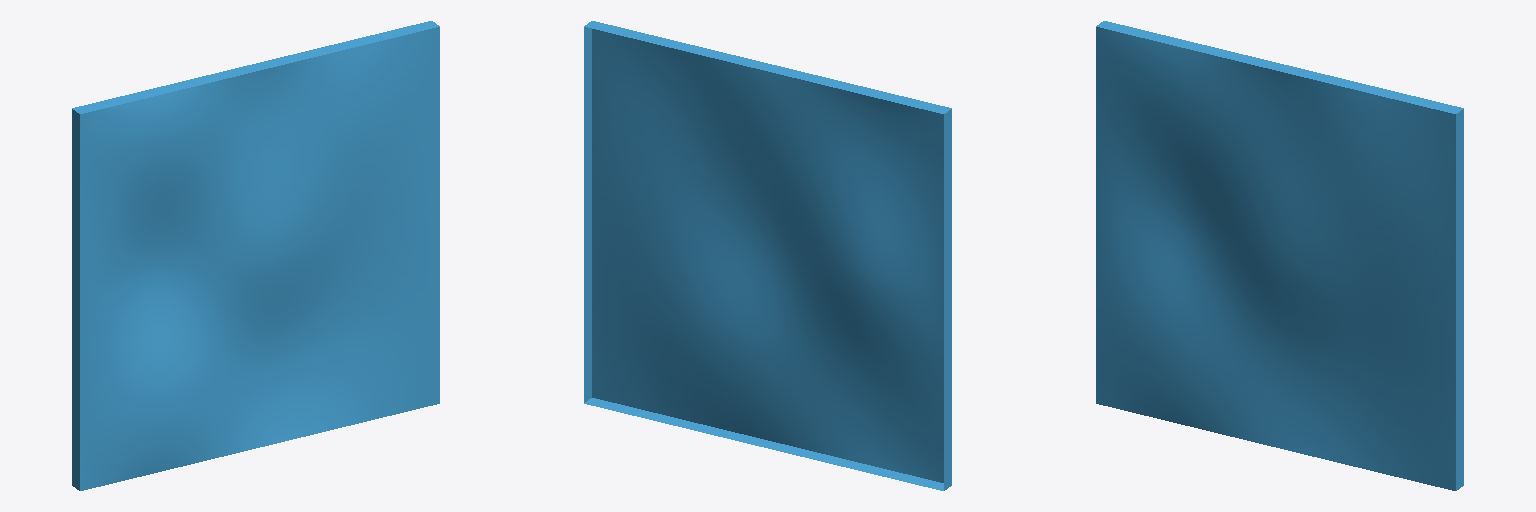
URDF robot description (liangcang):
<?xml version="1.0"?>
  <robot name="liangcang">
<!--base_link-->
     <link name="base_link">
       <collision>
            <geometry>
              <box size="0.00001 0.00001 0.00001"/>
            </geometry>
       </collision>
        <inertial>
           <mass value="1" />
           <origin xyz="0 0 0" rpy="0 0 0"/>
           <inertia ixx="1.0" ixy="0.0" ixz="0.0" iyy="1.0" iyz="0.0" izz="1" />
         </inertial>
     </link>
  <!--liangcang-->
  <joint name="liangcang_joint" type="fixed">
    <origin xyz="0 0 0" rpy="0 0 0"/>
    <parent link="base_link"/>
    <child link="liangcang"/>
  </joint>
  <link name="liangcang">
    <visual>
      <origin xyz="0 0 0" rpy="0 0 0"/>
      <geometry>
       <mesh filename= "package://shigu_description/meshes/liangcang.STL"/>
      </geometry>
    </visual>
    <collision>
      <origin xyz="0 0 0" rpy="0 0 0"/>
      <geometry>
       <mesh filename= "package://shigu_description/meshes/liangcang.STL"/>
      </geometry>
    </collision>
  </link>
  <gazebo reference="liangcang">
        <material>Gazebo/Orange</material>    
  </gazebo>

  </robot>

--- Render facts (derived) ---
3 views of the same robot in one strip: view 1: azimuth 30°, elevation 25°; view 2: azimuth 150°, elevation 25°; view 3: azimuth 330°, elevation 25° (orthographic).
Model liangcang with 2 links and 1 joints (1 fixed), rooted at base_link, posed every joint at zero.
Visible links, largest first — view 1: liangcang; view 2: liangcang; view 3: liangcang.
Boxes of the visible links, box(x1,y1,x2,y2) form: liangcang: box(72, 21, 439, 490); liangcang: box(584, 21, 951, 490); liangcang: box(1096, 21, 1463, 490).
Bounding box of the posed robot: 50000 × 2722 × 50000 m (x, y, z).
1 mesh visuals loaded from 1 distinct referenced files (1 binary STL).
